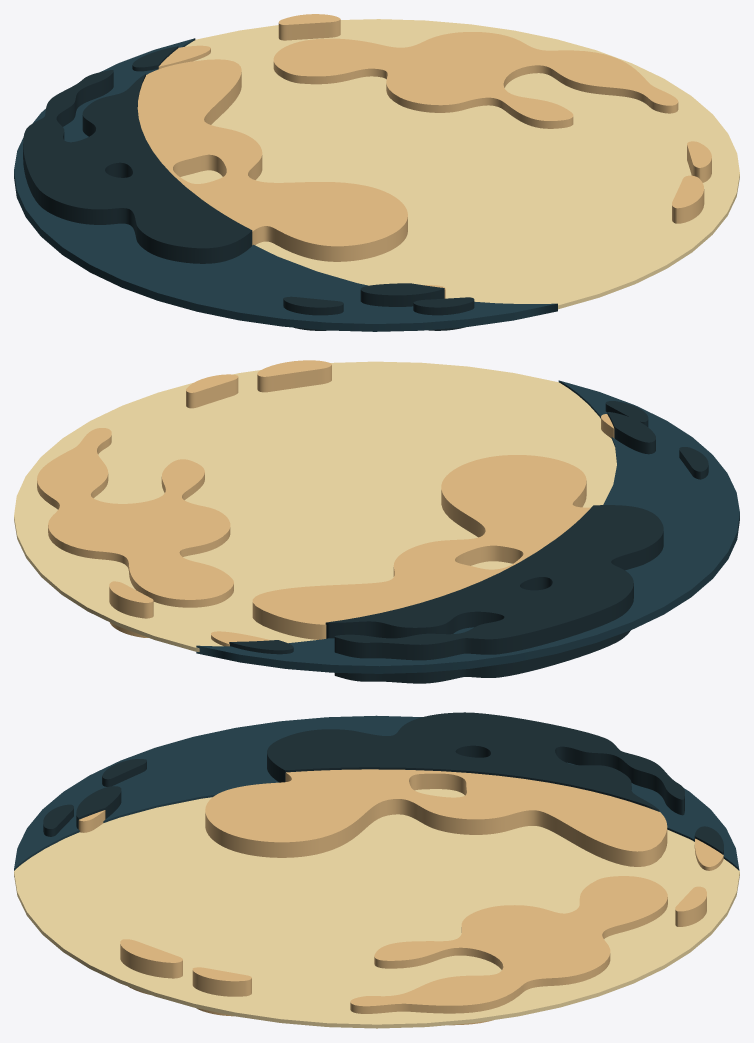
Rendered from emoji_u1f314.glb.
3 renders of one model, top to bottom at view 1: azimuth 30°, elevation 25°; view 2: azimuth 150°, elevation 25°; view 3: azimuth 270°, elevation 25°, orthographic.
Parts seen in each view (by area): view 1: emoji_u1f314; view 2: emoji_u1f314; view 3: emoji_u1f314.
Boxes of the visible parts, x1=… form: emoji_u1f314: x1=14, y1=14, x2=739, y2=331; emoji_u1f314: x1=14, y1=360, x2=739, y2=683; emoji_u1f314: x1=14, y1=712, x2=739, y2=1028.
Bounding box in the file's own units: 0.0339 × 0.002 × 0.0339.
